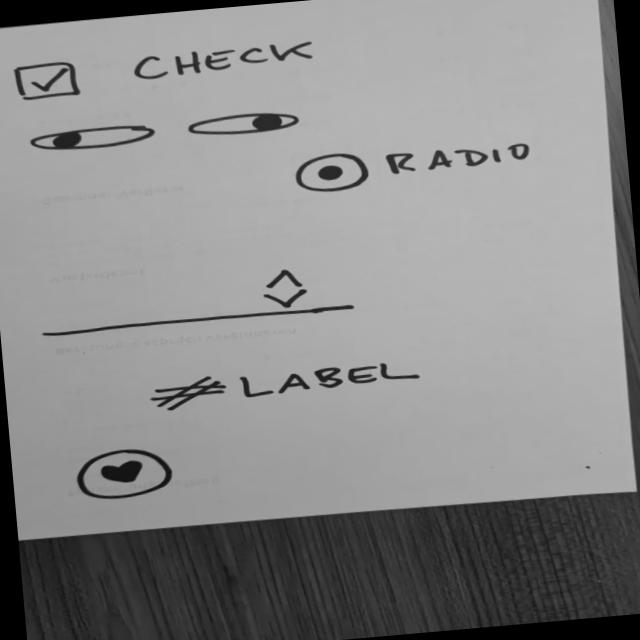checkbox: (11, 36, 326, 105)
icon-button: (71, 444, 180, 506)
label: (145, 353, 426, 416)
number-input: (33, 261, 363, 342)
radio: (290, 133, 543, 197)
toggle: (25, 122, 163, 158), (185, 108, 306, 141)
